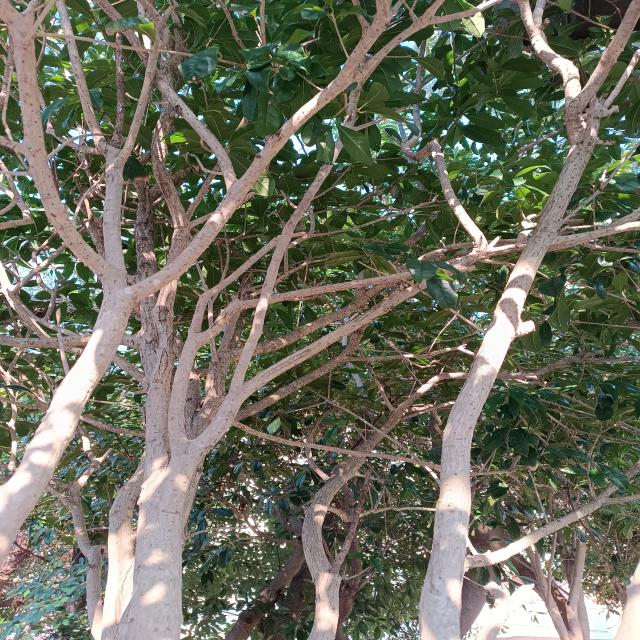Branch: (422, 127, 587, 640), (138, 0, 392, 303), (0, 288, 138, 566), (9, 8, 101, 276), (300, 412, 406, 640), (466, 462, 640, 571), (120, 441, 197, 640), (105, 35, 159, 290), (168, 333, 199, 460), (193, 387, 243, 460)
Twig: (230, 79, 387, 391), (243, 246, 492, 402), (92, 0, 238, 197), (397, 342, 632, 413), (201, 271, 414, 347), (188, 232, 309, 336), (236, 326, 365, 420), (53, 0, 121, 163), (401, 138, 499, 248), (481, 220, 639, 269), (348, 345, 476, 361), (46, 126, 99, 154), (402, 399, 456, 419), (579, 356, 640, 363), (602, 494, 640, 504)
